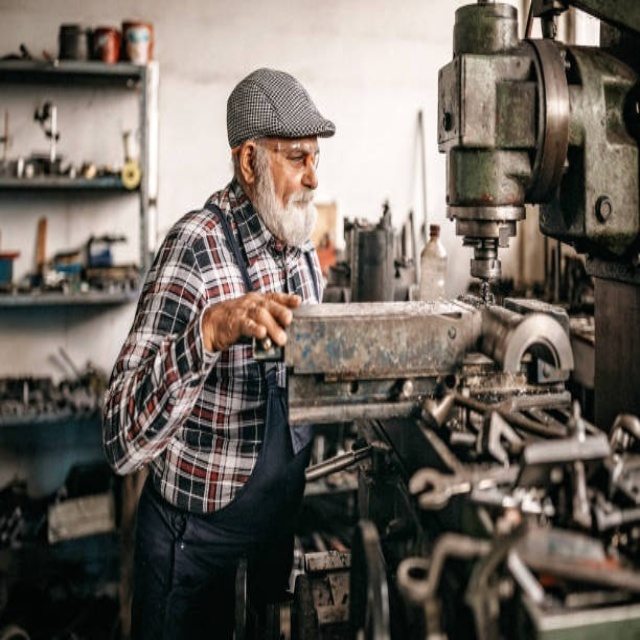Gafas: (257, 139, 323, 173)
Sin_guantes: (206, 288, 302, 355)
Sin_mascara: (283, 187, 318, 226)
